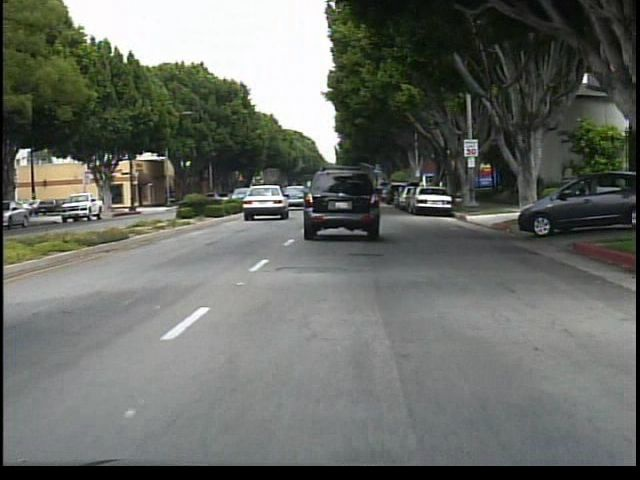person: (510, 169, 531, 213)
